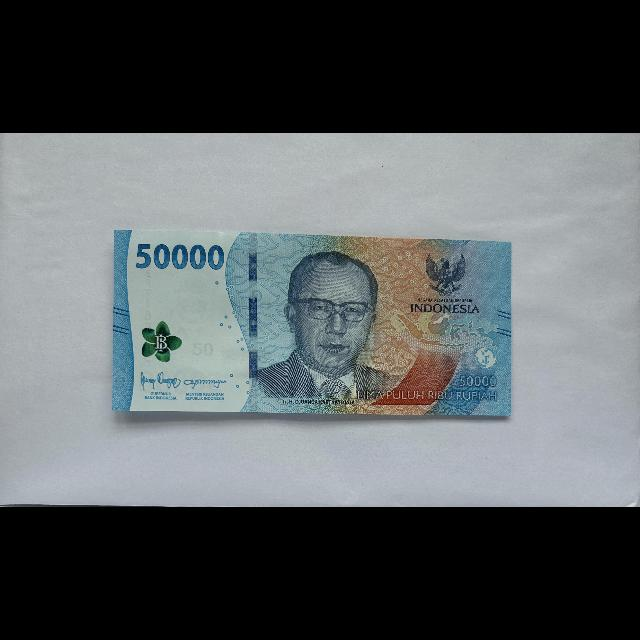Asli-50k: (111, 228, 513, 418)
Tinta-Asli-50k: (141, 321, 183, 364)
